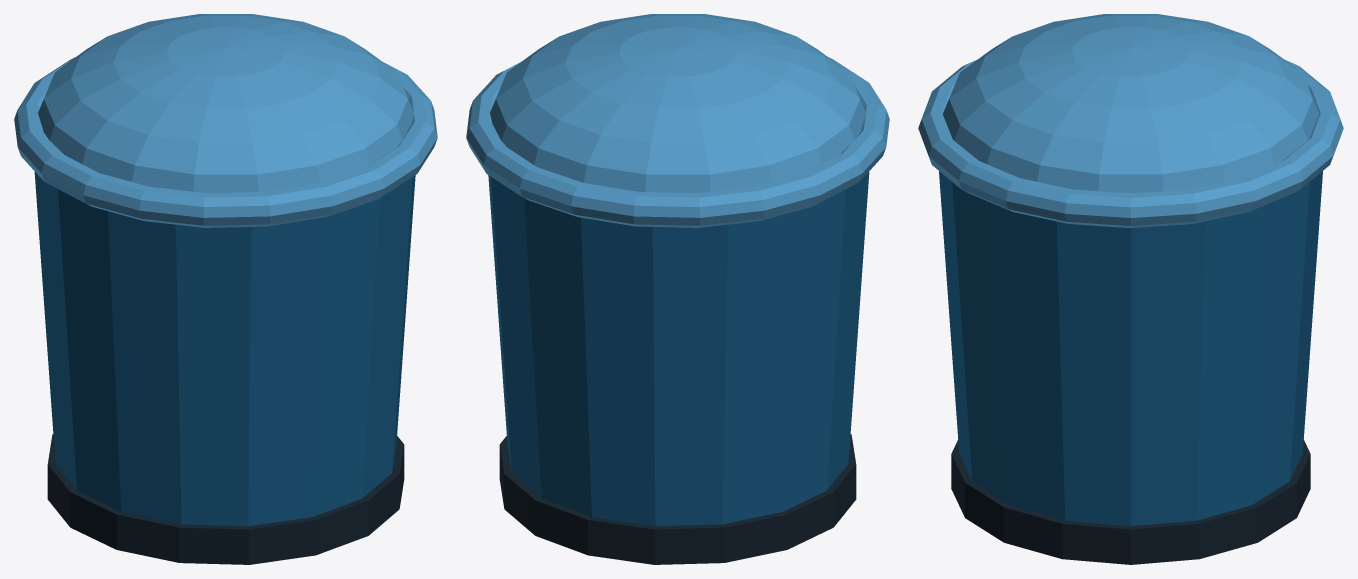
Rendered from bin_paper.glb.
3 renders of one model, left to right at view 1: azimuth 30°, elevation 25°; view 2: azimuth 150°, elevation 25°; view 3: azimuth 270°, elevation 25°, orthographic.
Parts seen in each view (by area): view 1: bin_paper; view 2: bin_paper; view 3: bin_paper.
Boxes of the visible parts, x1=… form: bin_paper: x1=14, y1=14, x2=437, y2=564; bin_paper: x1=466, y1=14, x2=889, y2=564; bin_paper: x1=918, y1=14, x2=1343, y2=564.
Bounding box in the file's own units: 1.09 × 1.25 × 1.09.
